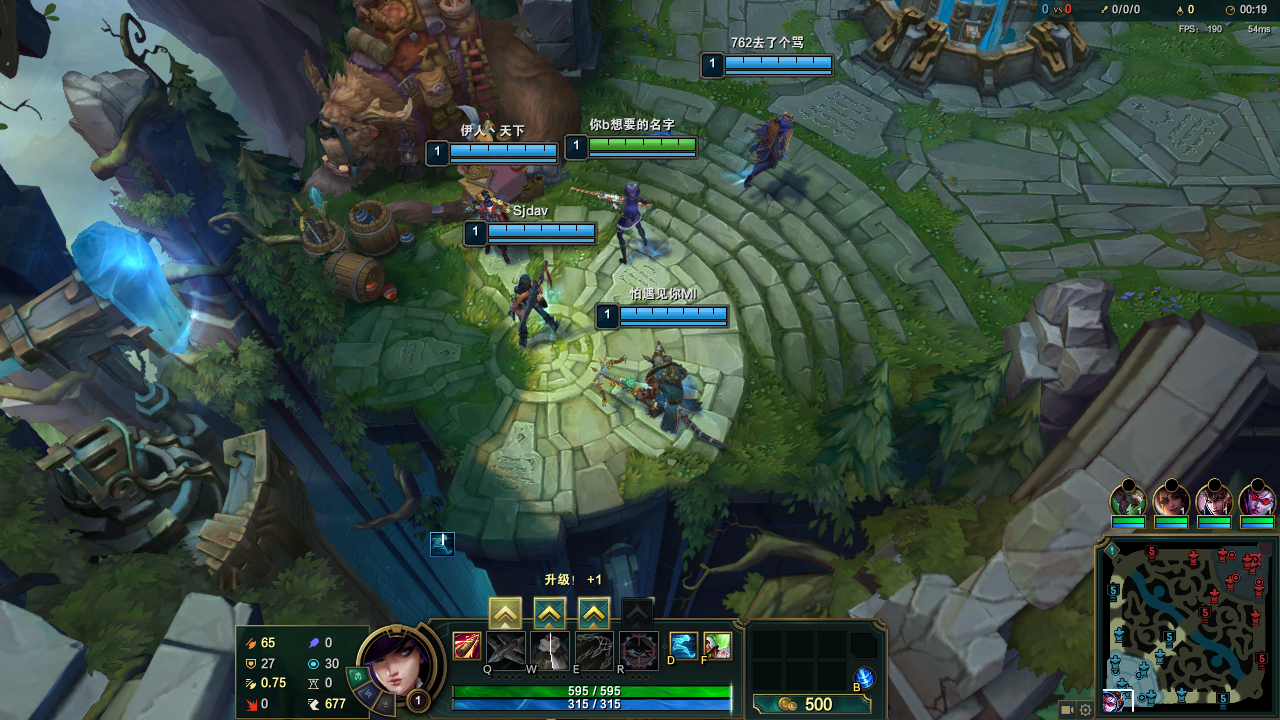Jidi: (311, 18, 521, 98)
SJ: (579, 600, 608, 627)
Shenji: (539, 601, 561, 623)
Tuijianshengji: (490, 601, 521, 628)
WFSJ: (887, 16, 1020, 68)
Yita: (1216, 689, 1231, 708)
